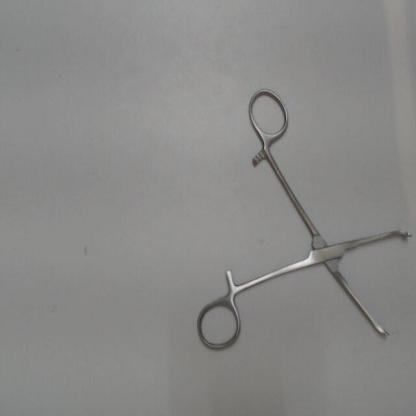Allis Tissue Forceps: (192, 80, 414, 362)
